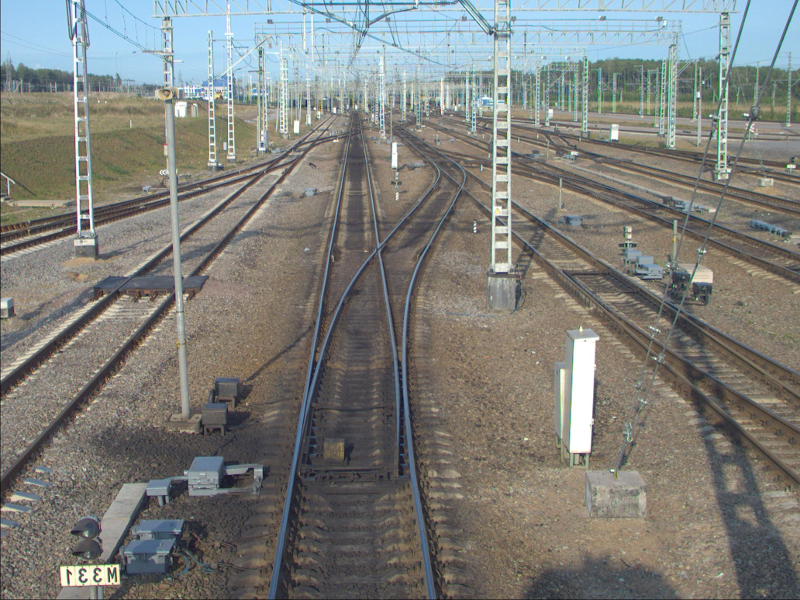right: (295, 367, 425, 481)
